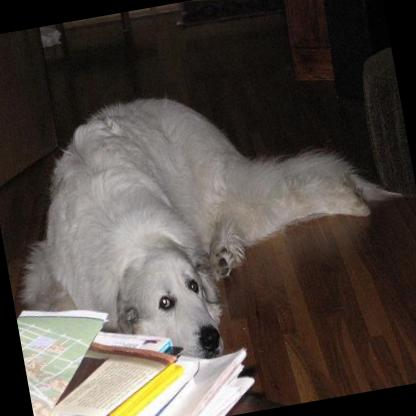Great_Pyrenees: (0, 47, 416, 397)
